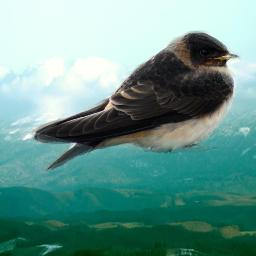Swallow: (32, 30, 241, 173)
